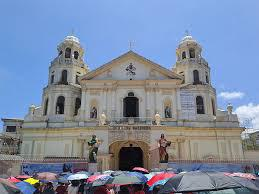quiapo_church_quiapo_manila: (13, 24, 248, 174)
